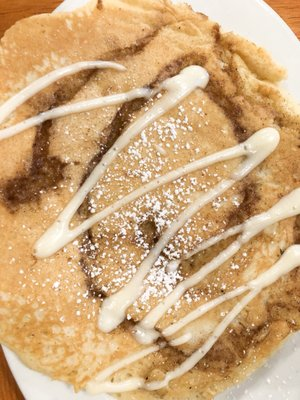sushi: (0, 0, 299, 380)
